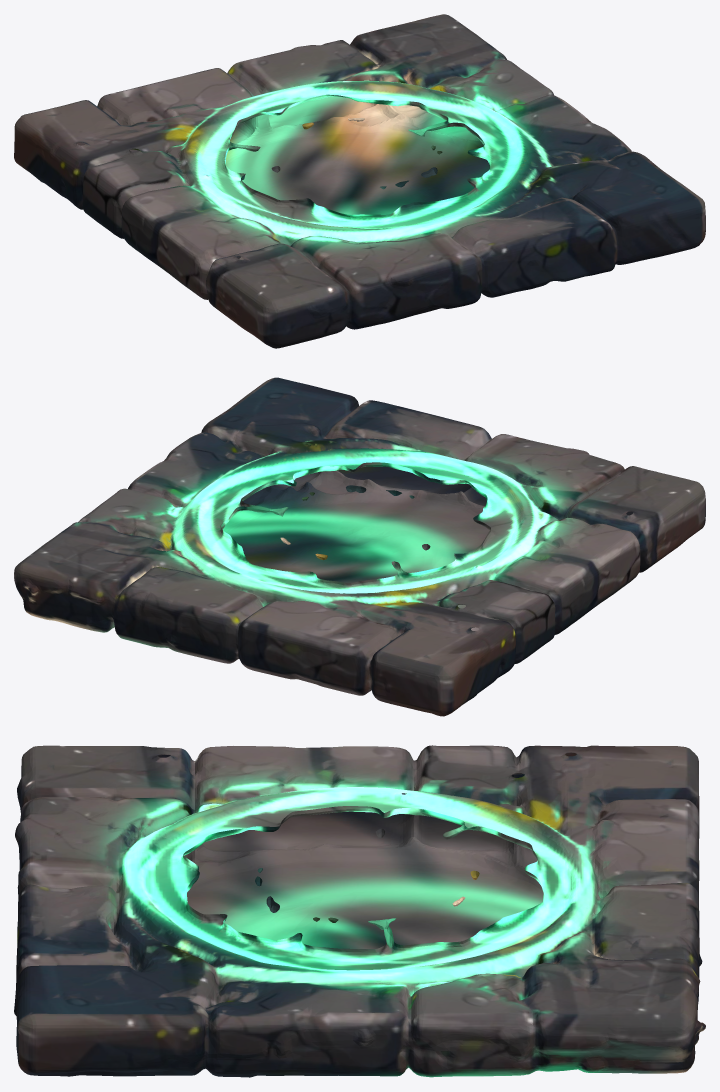
The model's file is idol_stribog_plate.glb.
3 views of the same model, one above another, from view 1: azimuth 30°, elevation 25°; view 2: azimuth 150°, elevation 25°; view 3: azimuth 270°, elevation 25° (orthographic). The views are drawn at different scales.
Parts seen in each view (by area): view 1: idol_stribog_plate; view 2: idol_stribog_plate; view 3: idol_stribog_plate.
Boxes of the visible parts, x1,y1,x2,y2 form: idol_stribog_plate: (14, 14, 705, 348); idol_stribog_plate: (14, 377, 705, 716); idol_stribog_plate: (14, 745, 705, 1077).
Bounding box in the file's own units: 1.91 × 0.2204 × 2.
Materials: 1 (1 with a texture image).
